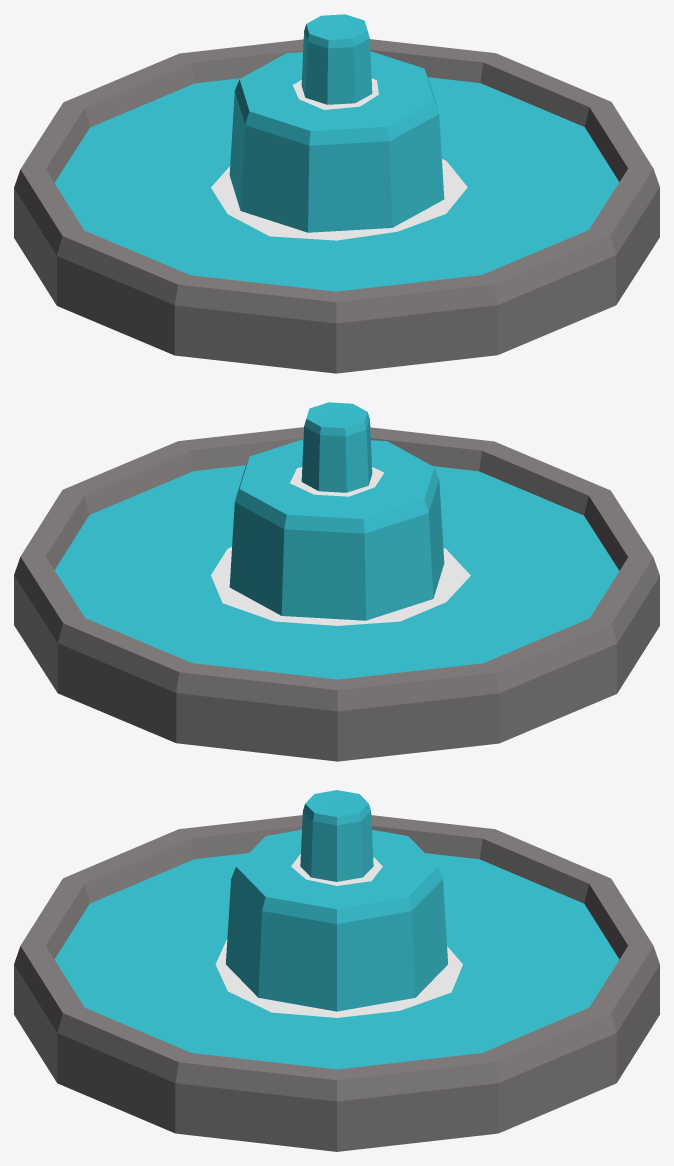
Rendered from fuente.glb.
3 views of the same model, one above another, from view 1: azimuth 30°, elevation 25°; view 2: azimuth 150°, elevation 25°; view 3: azimuth 270°, elevation 25° (orthographic).
Visible parts, largest first — view 1: fountain.001, fountain; view 2: fountain.001, fountain; view 3: fountain.001, fountain.
Boxes of the visible parts, box(x1,y1,x2,y2) form: fountain.001: box(54, 14, 619, 291); fountain: box(14, 39, 659, 373); fountain.001: box(54, 402, 619, 679); fountain: box(14, 427, 659, 761); fountain.001: box(54, 790, 619, 1069); fountain: box(14, 815, 659, 1151).
Size of the model in its own units: 5.37 by 1.93 by 5.34.
Materials: 4 (1 with a texture image).
